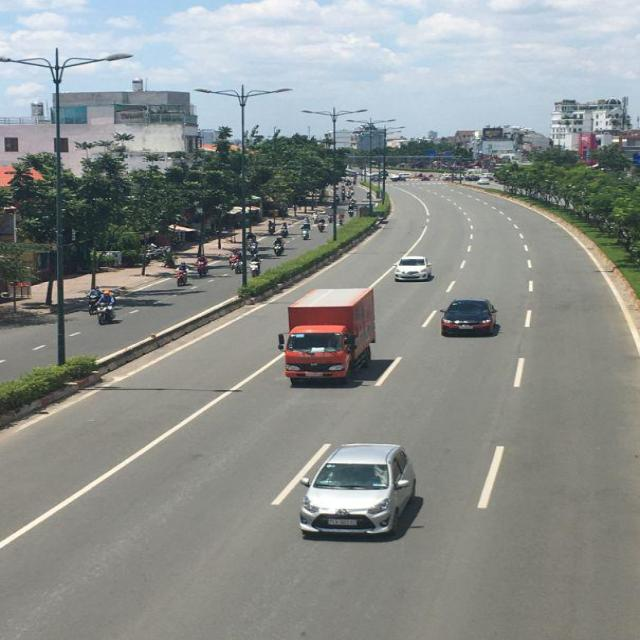car: (299, 442, 421, 538), (441, 298, 499, 338), (394, 255, 434, 282)
truck: (280, 286, 374, 386)
